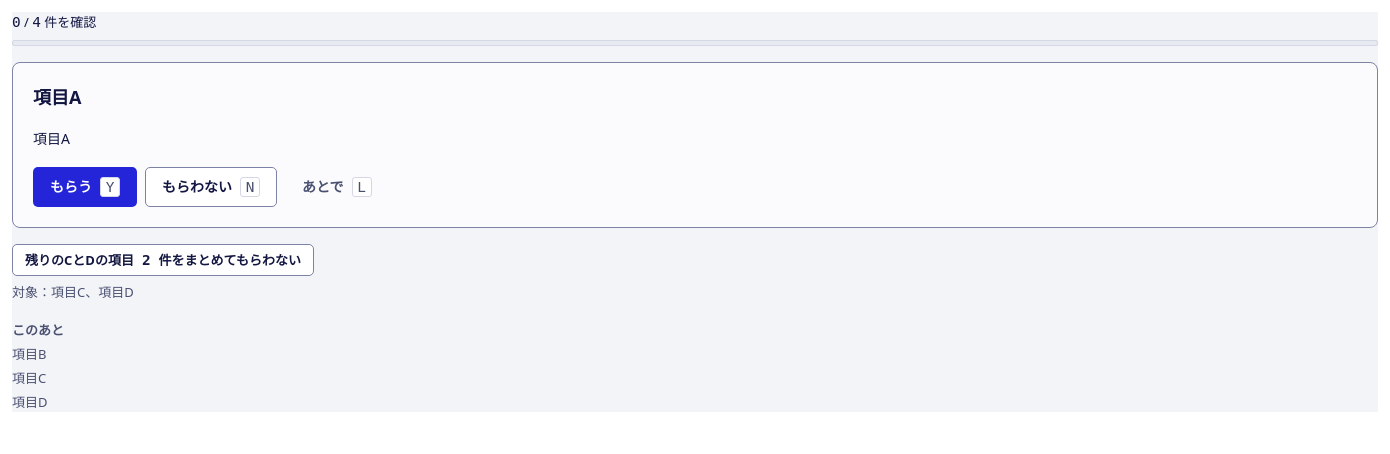
Scenario: DecisionQueue bulk and focus › hides the shortcut when fewer than two items match
Click the button "あとで L" at (337, 187), box [285,167,389,207]
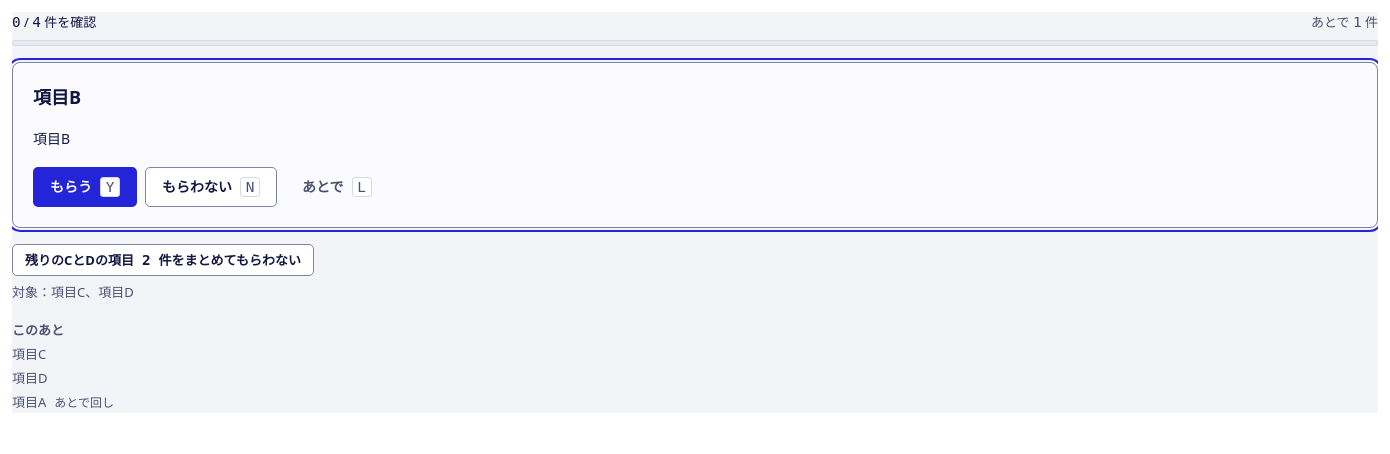
Click the button "もらう Y" at (85, 187), box [33,167,137,207]
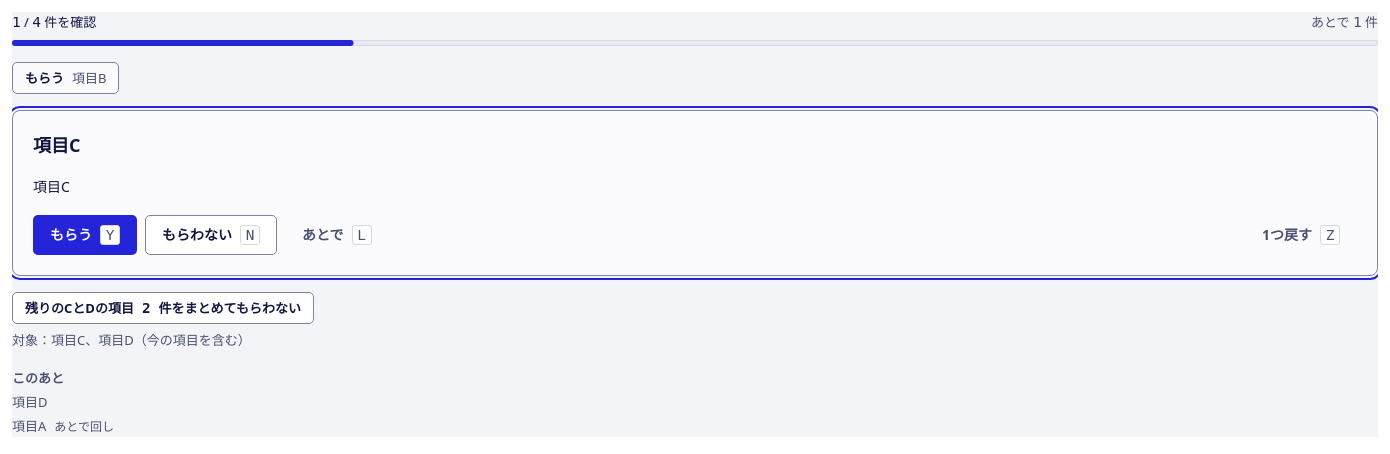
Click the button "もらう Y" at (85, 235), box [33,215,137,255]
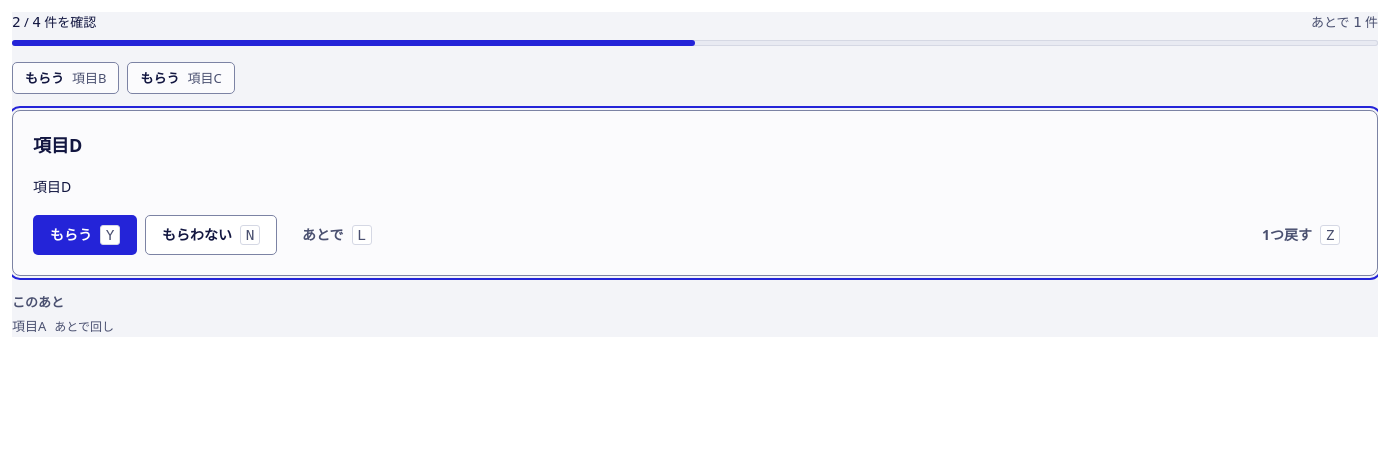
Check: the button "まとめて" is gone
